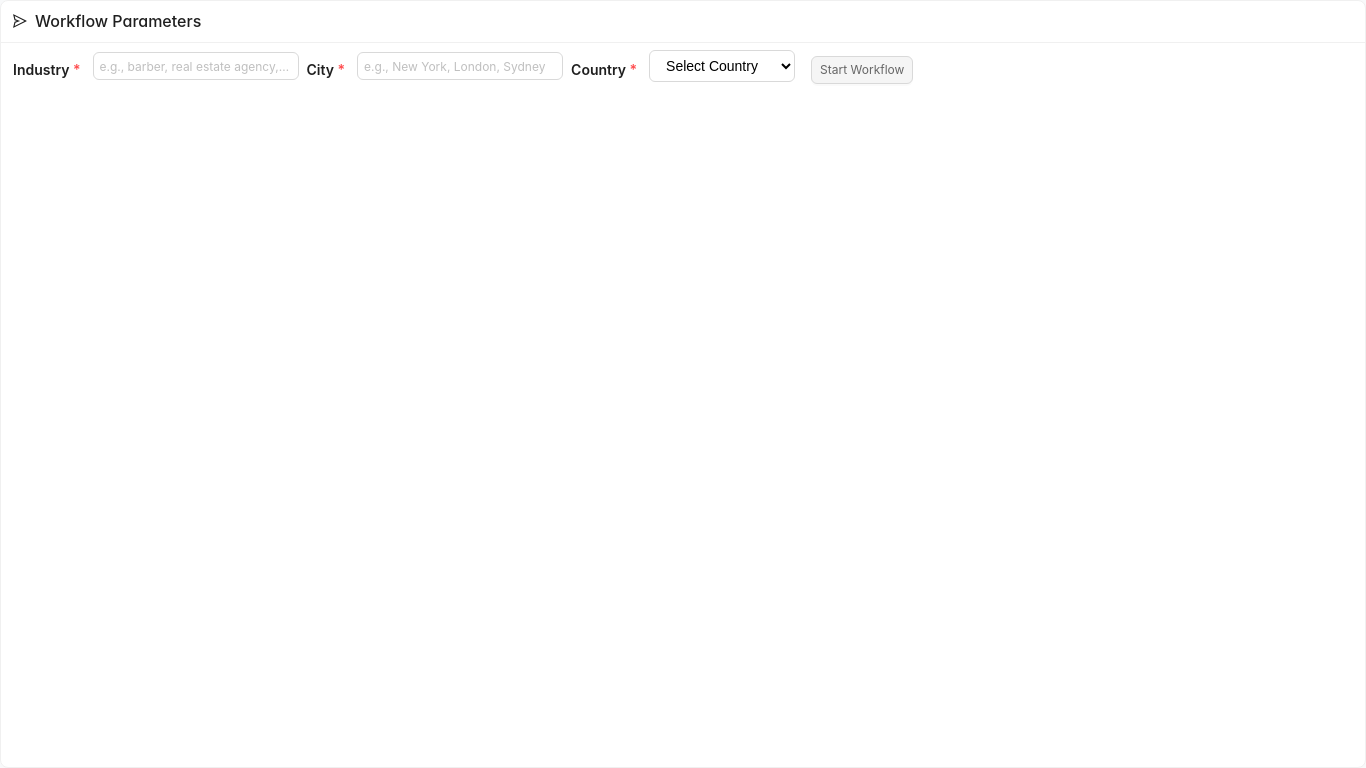
InputForm › 表单验证 › 应该验证必填字段
Click the button "Start Workflow" at (862, 70), box x1=811 y1=56 x2=913 y2=84
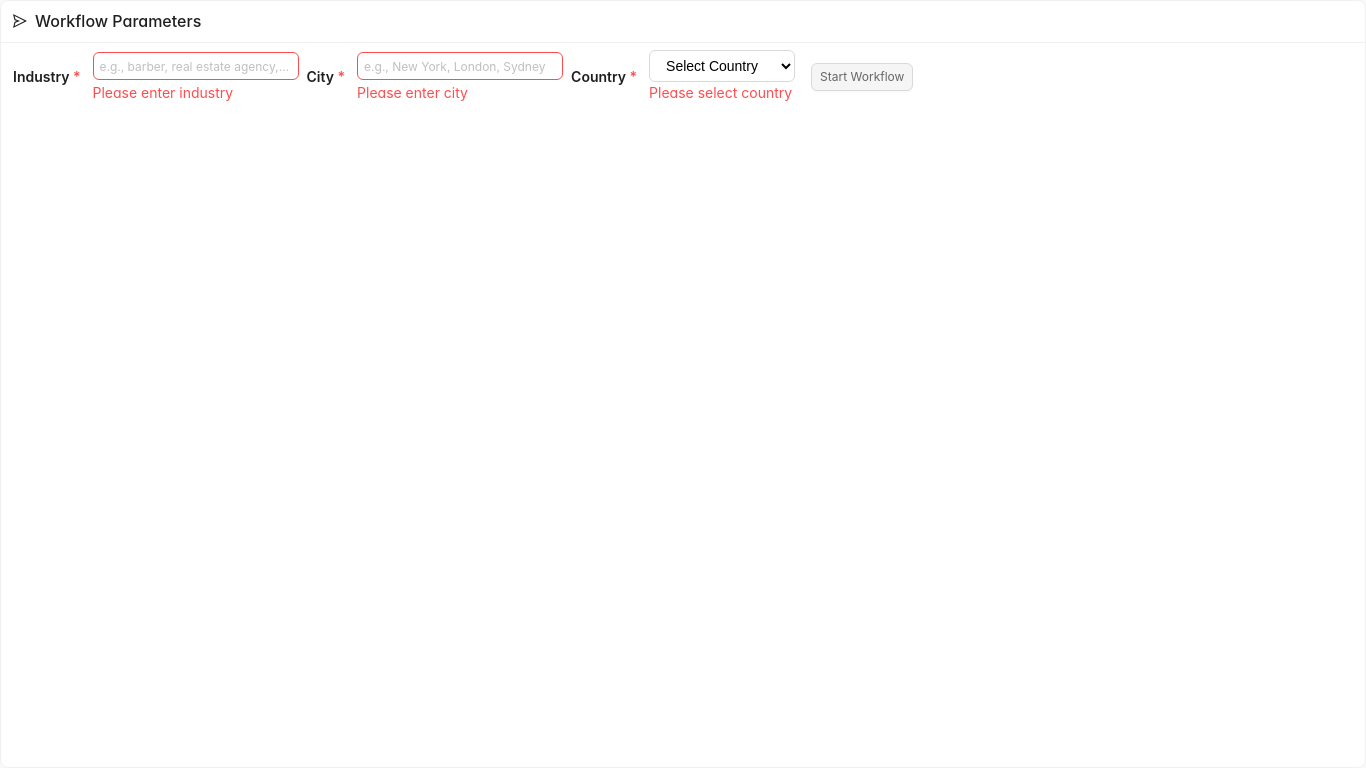
Check: the text "Please enter industry" is shown, box x1=92 y1=84 x2=233 y2=101
Check: the text "Please enter city" is shown, box x1=357 y1=84 x2=468 y2=101
Check: the text "Please select country" is shown, box x1=649 y1=82 x2=795 y2=104
